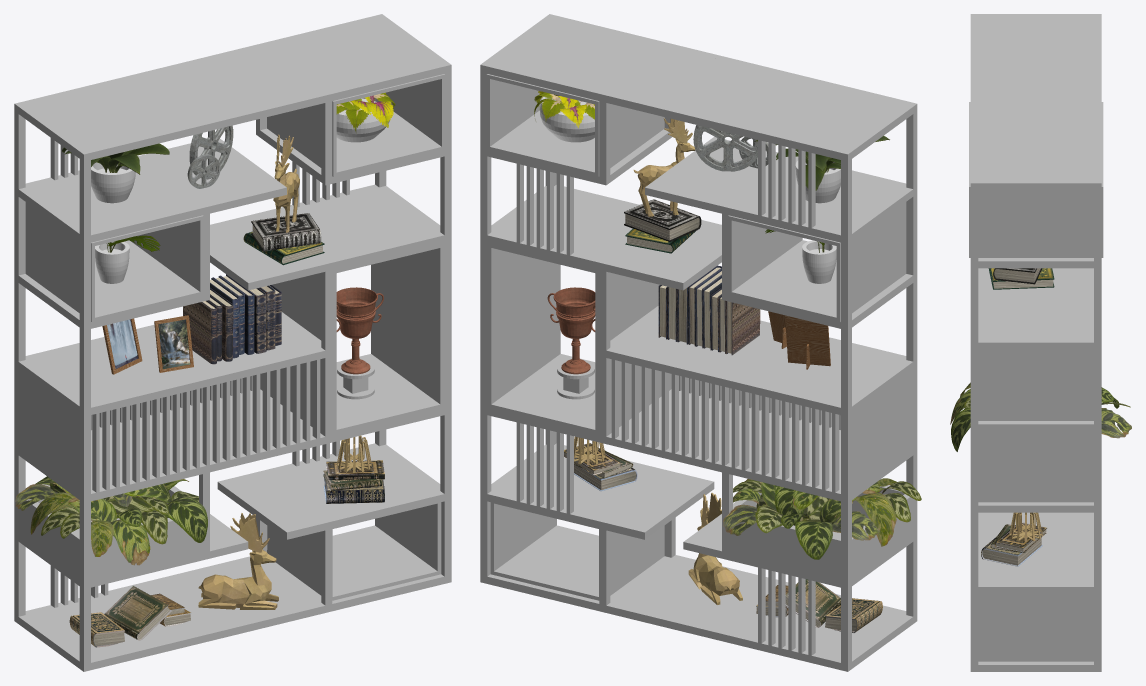
File: Book.fbx
The picture shows the model from 3 angles, left to right: view 1: azimuth 30°, elevation 25°; view 2: azimuth 150°, elevation 25°; view 3: azimuth 270°, elevation 25°; orthographic projection. The views are drawn at different scales.
Visible parts, largest first — view 1: Shelf_frame, Shelf_1, Shelf_cube_3, Shelf_cube_2, Shelf_cube_4, Shelf_cube_1, Plant_4, Book_pack_8, Shelf_cube_5, Golden_Deer_2, Cup, Book_13 (+17 smaller); view 2: Shelf_frame, Shelf_1, Shelf_cube_3, Shelf_cube_2, Shelf_cube_4, Shelf_cube_1, Plant_4, Book_pack_8, Shelf_cube_5, Cup, Golden_Deer_2, Book_3.002 (+13 smaller); view 3: Shelf_1, Shelf_frame, Shelf_cube_3, Shelf_cube_1, Shelf_cube_4, Plant_4, Book_11, Candle_holder, Book_9, Book_3.002, Book_4.
Part boxes in pixels (left/top/right/bottom): Shelf_frame: left=14, top=14, right=451, bottom=671; Shelf_1: left=26, top=19, right=439, bottom=658; Shelf_cube_3: left=272, top=242, right=444, bottom=434; Shelf_cube_2: left=25, top=202, right=203, bottom=321; Shelf_cube_4: left=267, top=502, right=441, bottom=600; Shelf_cube_1: left=267, top=74, right=445, bottom=176; Plant_4: left=15, top=476, right=207, bottom=565; Book_pack_8: left=183, top=274, right=281, bottom=364; Shelf_cube_5: left=18, top=484, right=202, bottom=580; Golden_Deer_2: left=198, top=513, right=278, bottom=609; Cup: left=336, top=287, right=383, bottom=374; Book_13: left=104, top=586, right=171, bottom=640; Shelf_frame: left=480, top=14, right=917, bottom=671; Shelf_1: left=491, top=18, right=905, bottom=658; Shelf_cube_3: left=487, top=242, right=659, bottom=434; Shelf_cube_2: left=728, top=202, right=906, bottom=321; Shelf_cube_4: left=490, top=502, right=664, bottom=600; Shelf_cube_1: left=486, top=74, right=664, bottom=176; Plant_4: left=723, top=478, right=921, bottom=559; Book_pack_8: left=658, top=265, right=760, bottom=355; Shelf_cube_5: left=729, top=485, right=913, bottom=580; Cup: left=547, top=287, right=595, bottom=374; Golden_Deer_2: left=688, top=492, right=742, bottom=604; Book_3.002: left=624, top=199, right=701, bottom=241; Shelf_1: left=978, top=17, right=1093, bottom=583; Shelf_frame: left=970, top=14, right=1101, bottom=671; Shelf_cube_3: left=978, top=349, right=1093, bottom=502; Shelf_cube_1: left=969, top=135, right=1103, bottom=257; Shelf_cube_4: left=978, top=594, right=1093, bottom=661; Plant_4: left=950, top=382, right=1131, bottom=451; Book_11: left=981, top=536, right=1042, bottom=566; Candle_holder: left=1009, top=512, right=1042, bottom=541; Book_9: left=988, top=268, right=1054, bottom=289; Book_3.002: left=993, top=268, right=1042, bottom=284; Book_4: left=995, top=522, right=1047, bottom=552.
Bounding box in the file's own units: 220 × 282 × 95.
